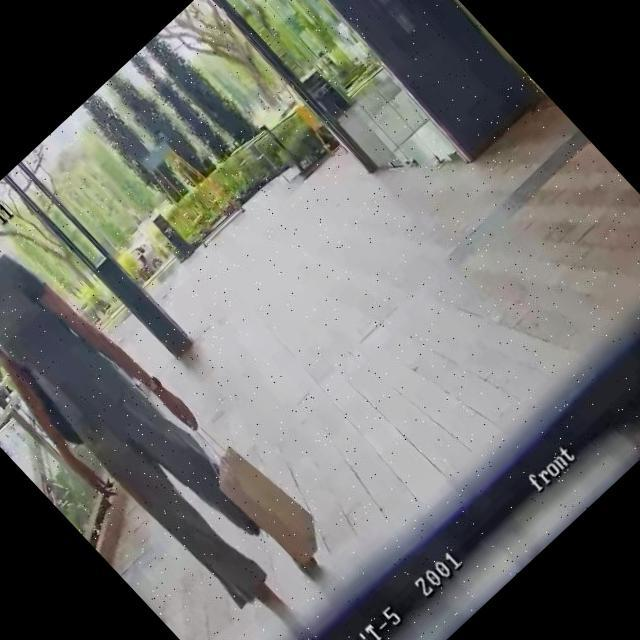person: (0, 192, 339, 640)
